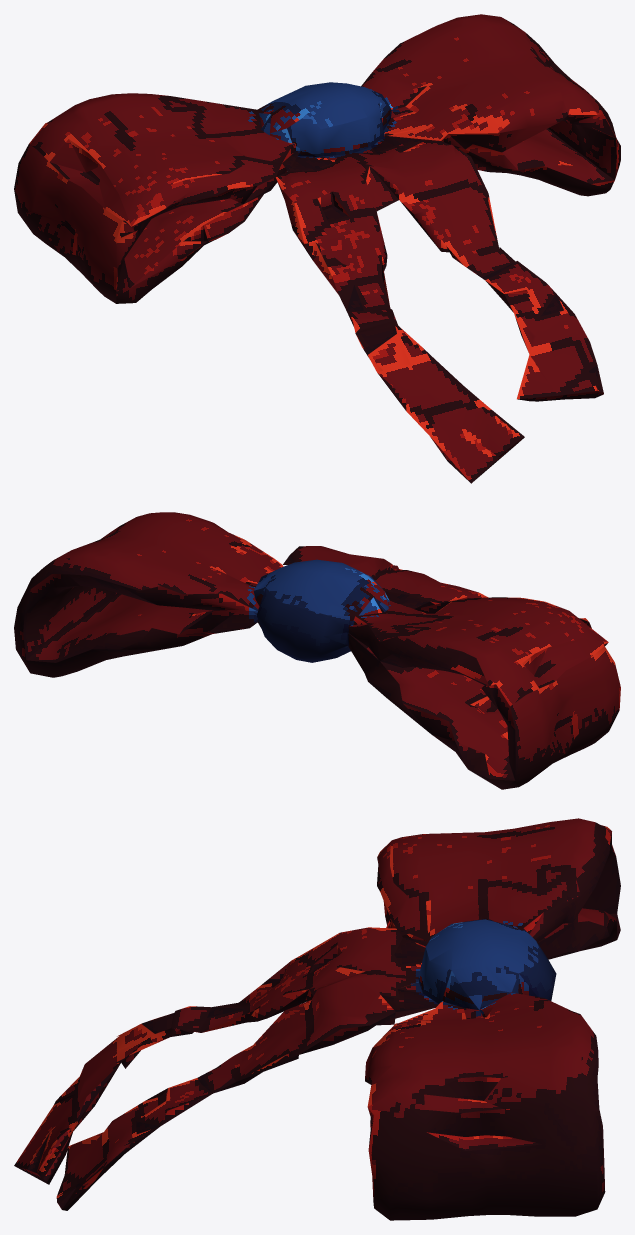
Rendered from wear_bow.glb.
The picture shows the model from 3 angles, top to bottom: view 1: azimuth 30°, elevation 25°; view 2: azimuth 150°, elevation 25°; view 3: azimuth 270°, elevation 25°; orthographic projection. The views are drawn at different scales.
Visible parts, largest first — view 1: mesh; view 2: mesh; view 3: mesh.
Boxes of the visible parts, x1,y1,x2,y2 form: mesh: [14, 14, 620, 483]; mesh: [14, 512, 620, 789]; mesh: [14, 818, 620, 1220].
Bounding box in the file's own units: 0.2322 × 0.1 × 0.2048.
1 material, 1 textured.
